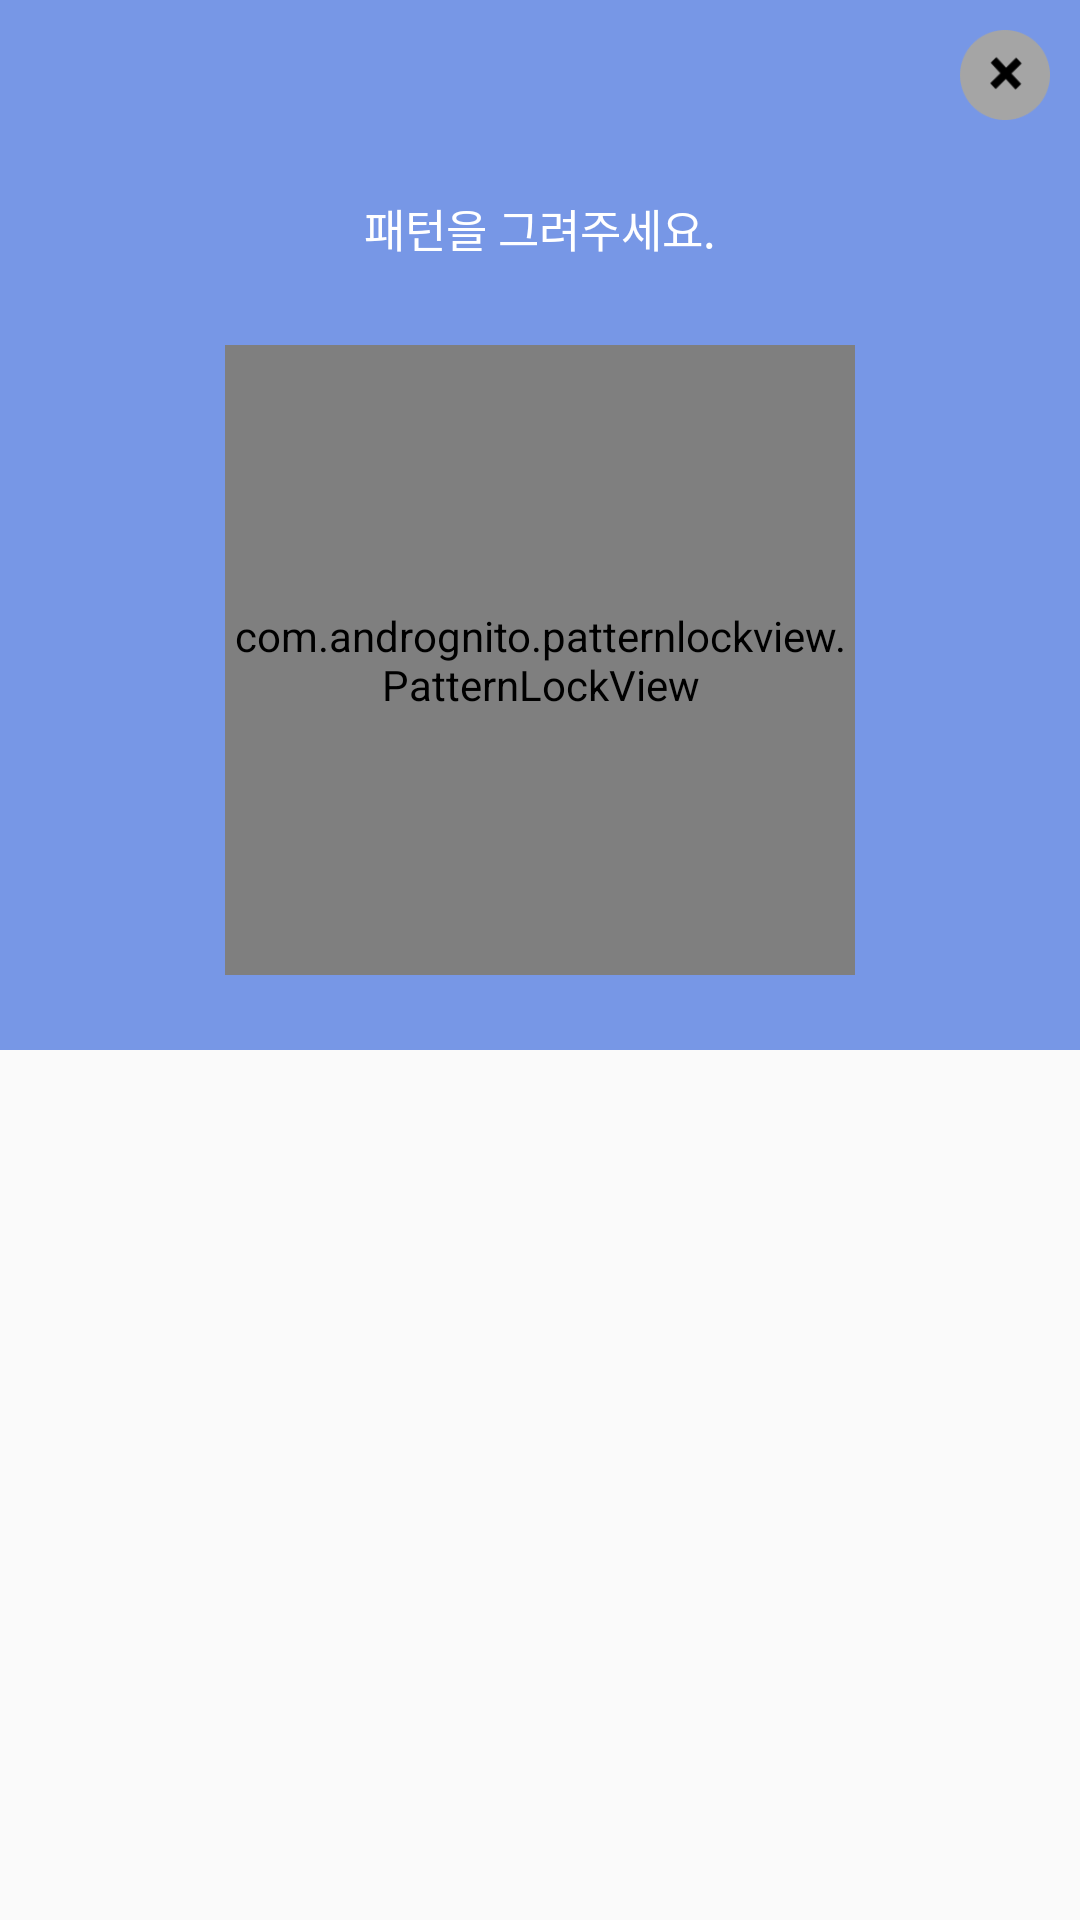

Named icons in this screenshot (1080w x 1920h) and their bounding boxes, (x1, y1, x2, y2):
delete: (960, 30, 1050, 120)
